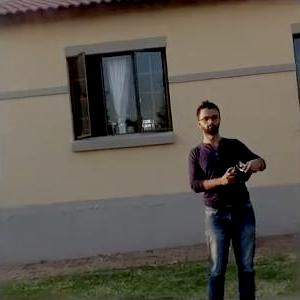follow: (185, 96, 272, 299)
